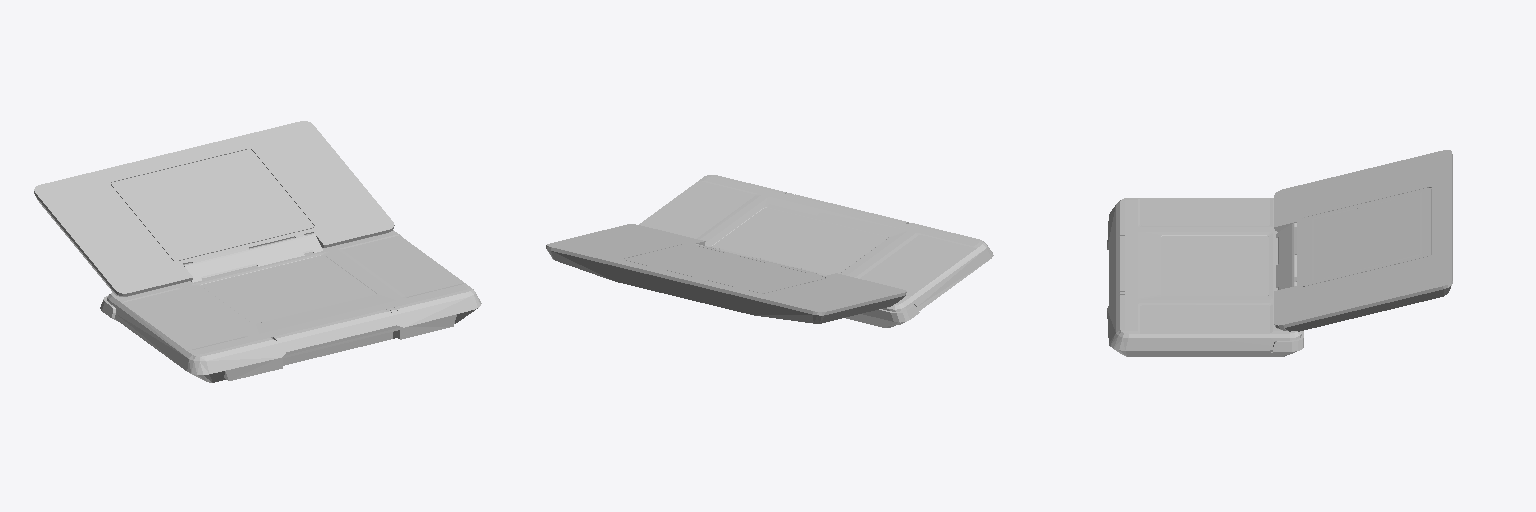
File: course_model.obj
The picture shows the model from 3 angles: view 1: azimuth 30°, elevation 25°; view 2: azimuth 150°, elevation 25°; view 3: azimuth 270°, elevation 25°; orthographic projection.
Visible parts, largest first — view 1: polygon5.001; view 2: polygon5.001; view 3: polygon5.001.
Boxes of the visible parts, <box> form: polygon5.001: <box>34,121,481,382</box>; polygon5.001: <box>546,175,993,327</box>; polygon5.001: <box>1107,150,1452,356</box>.
Size of the model in its own units: 90.58 by 23.29 by 91.55.